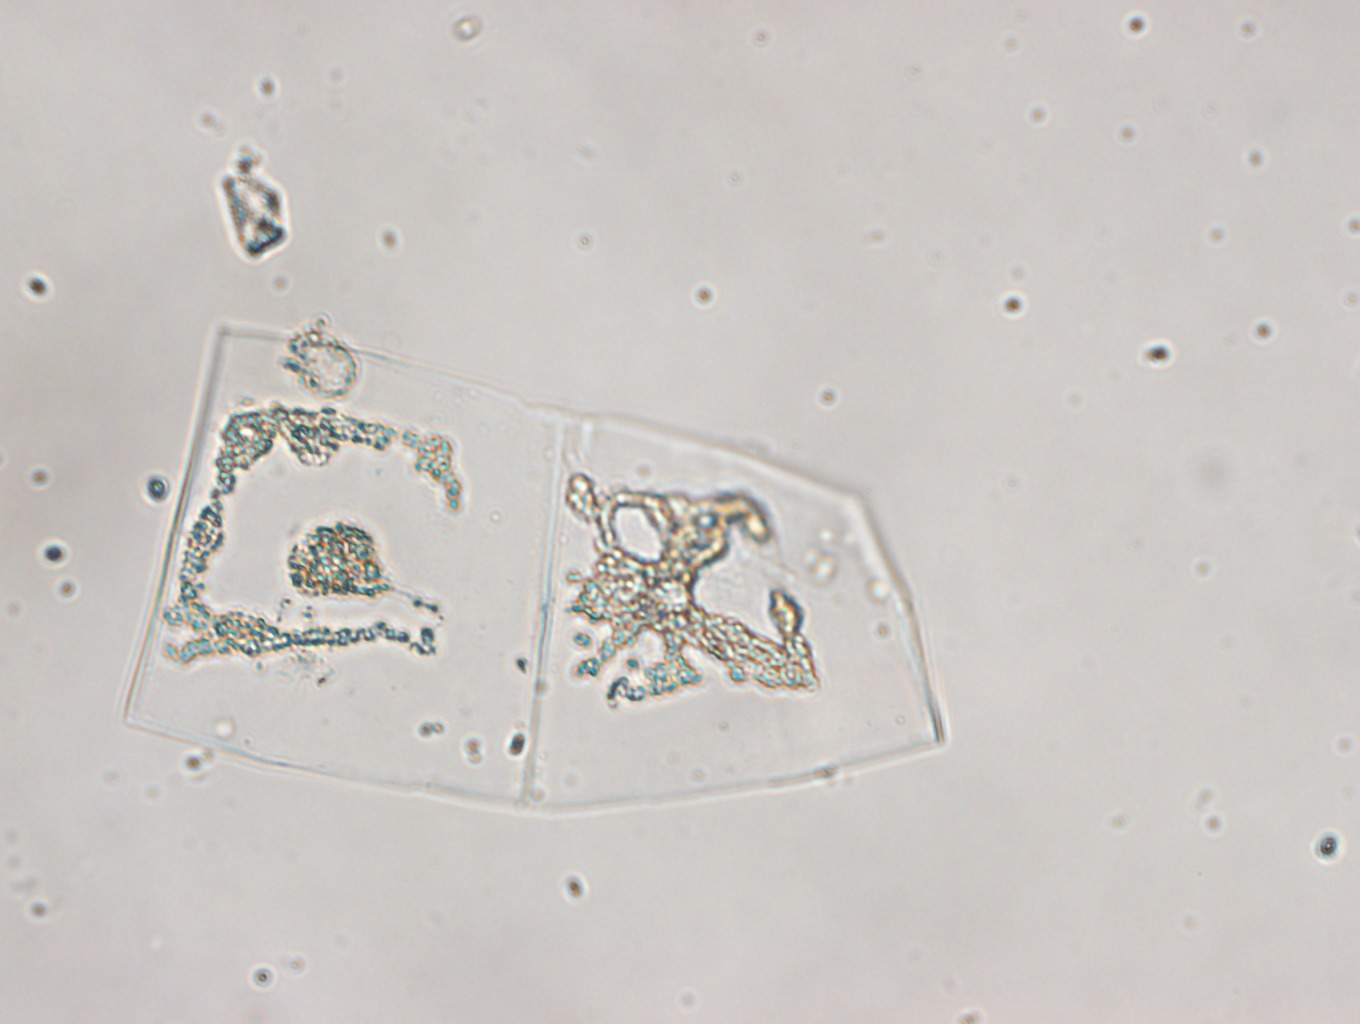helicotheca: (116, 322, 953, 817)
